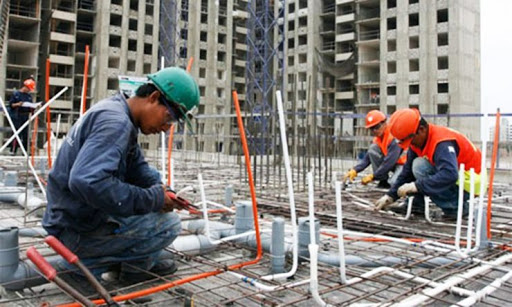casco: (145, 66, 201, 137), (388, 108, 422, 149), (364, 109, 387, 130), (23, 78, 36, 93)
